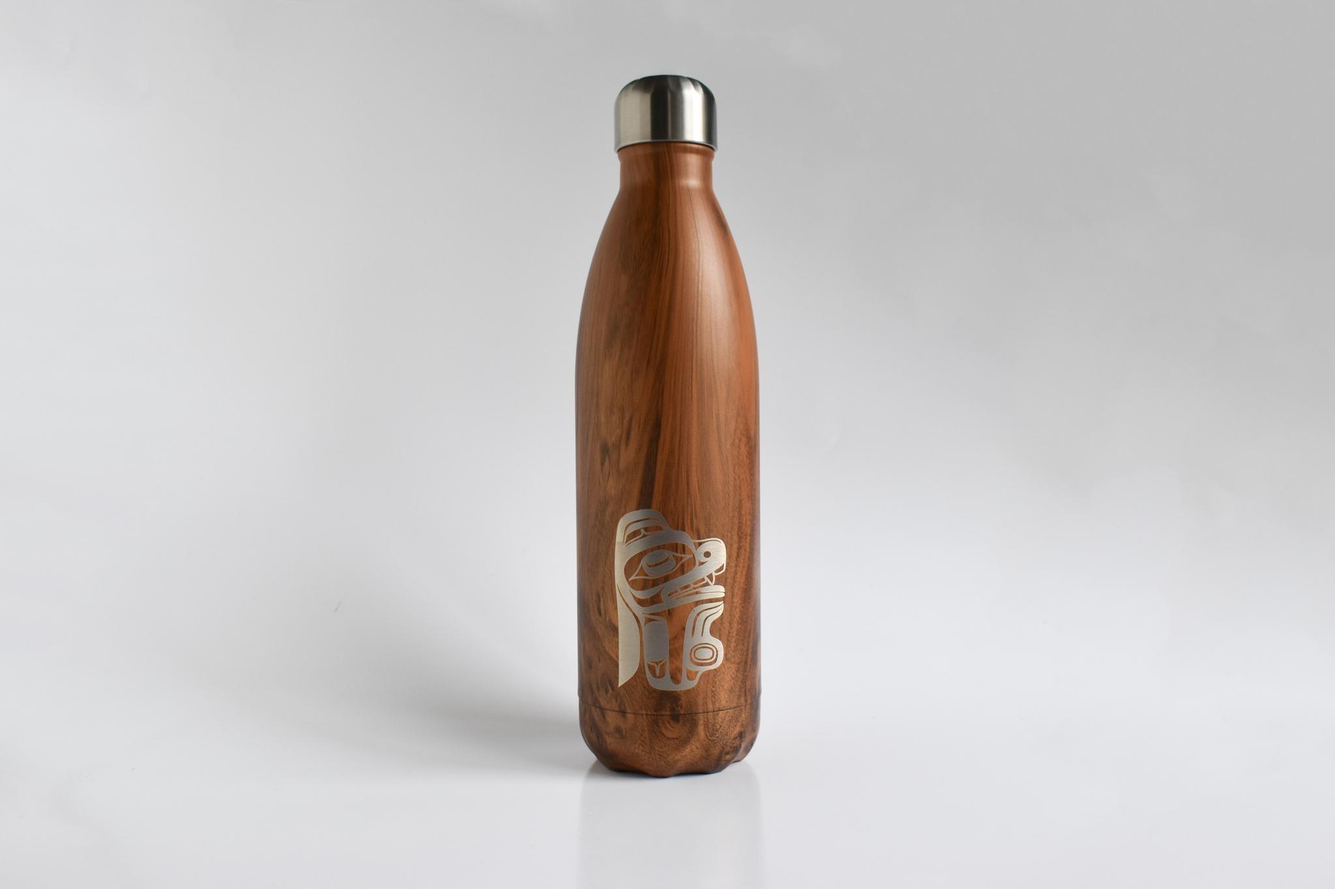gym bottle: (567, 68, 772, 780)
